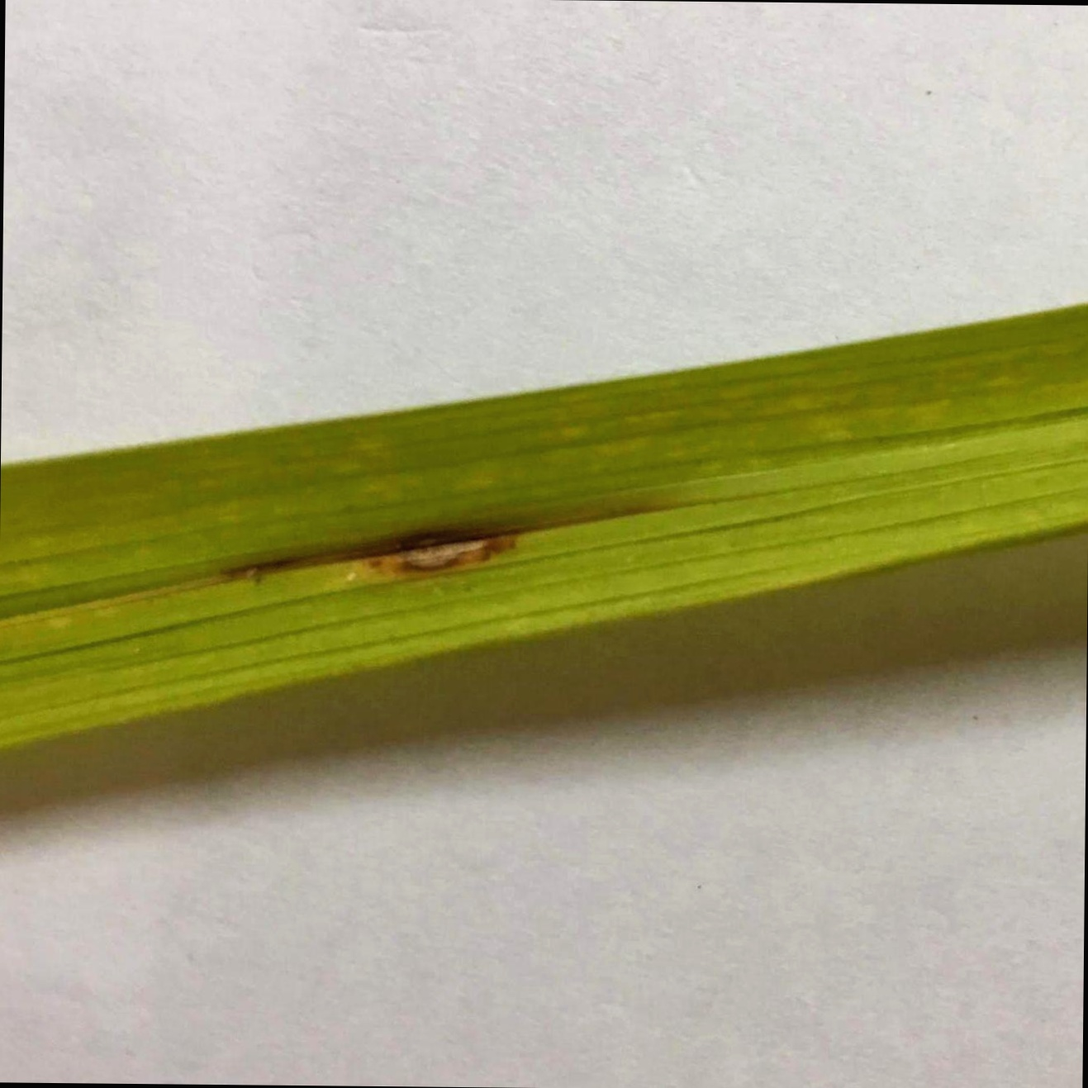Brown_Spot: (301, 411, 579, 624)
